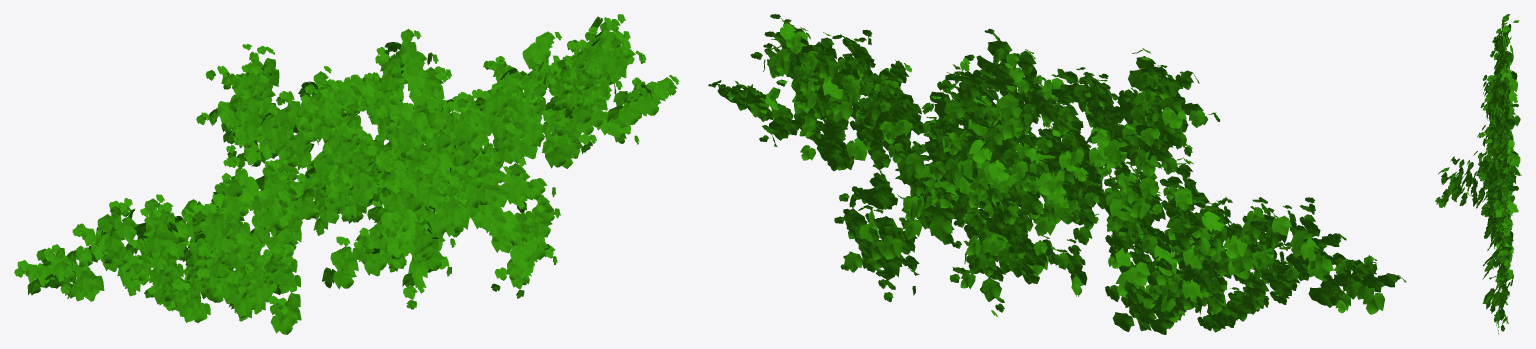
The model's file is Lisce 01.dae.
3 renders of one model, left to right at view 1: azimuth 30°, elevation 25°; view 2: azimuth 150°, elevation 25°; view 3: azimuth 270°, elevation 25°, orthographic. The views are drawn at different scales.
Parts seen in each view (by area): view 1: Lisce 01; view 2: Lisce 01; view 3: Lisce 01.
Boxes of the visible parts, x1,y1,x2,y2 form: Lisce 01: [14, 14, 679, 334]; Lisce 01: [708, 14, 1406, 334]; Lisce 01: [1435, 14, 1521, 334].
Bounding box in the file's own units: 5.4 × 0.8391 × 2.39.
